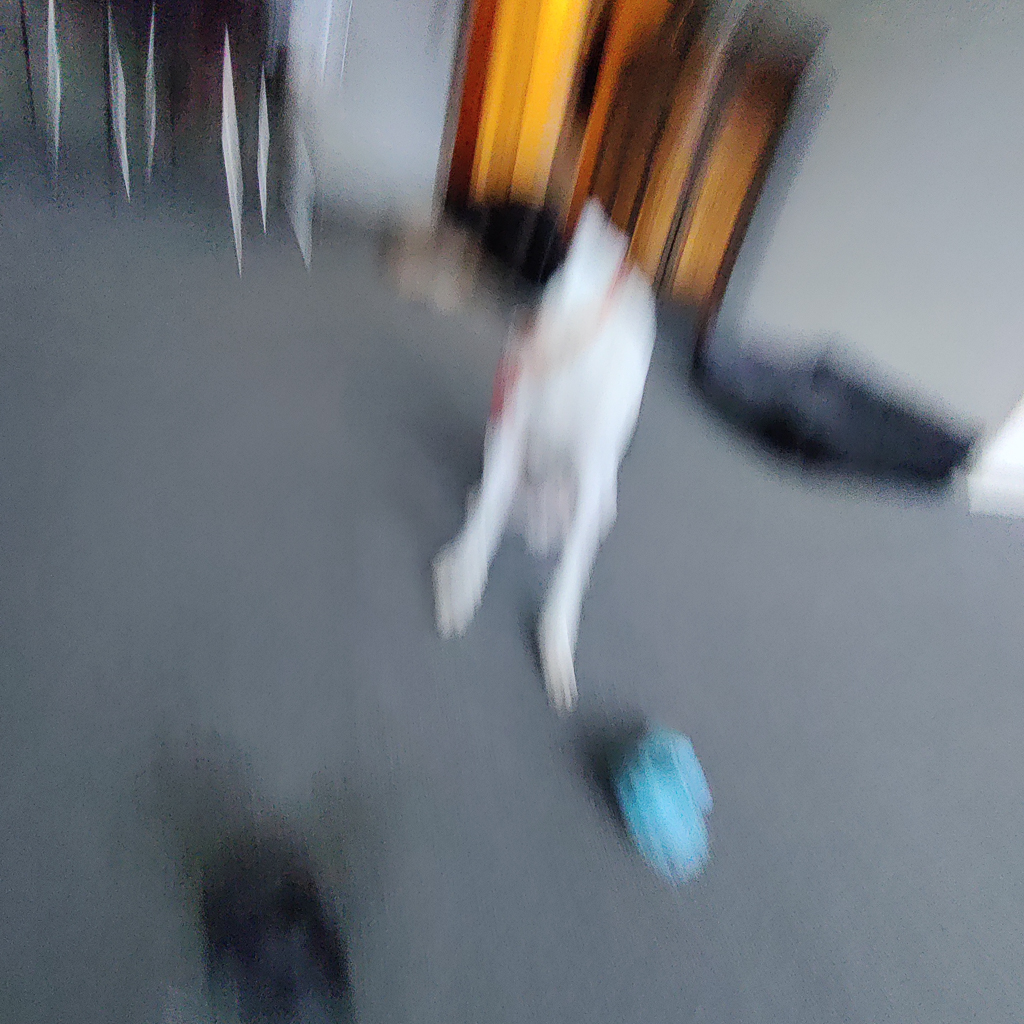Dog: (345, 140, 688, 721)
